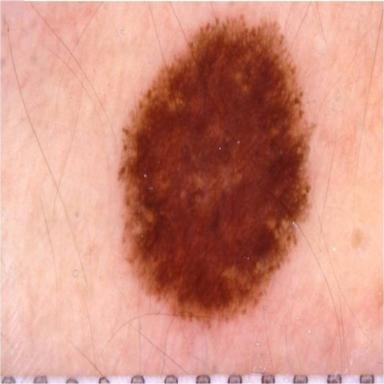nevus: (119, 20, 312, 318)
